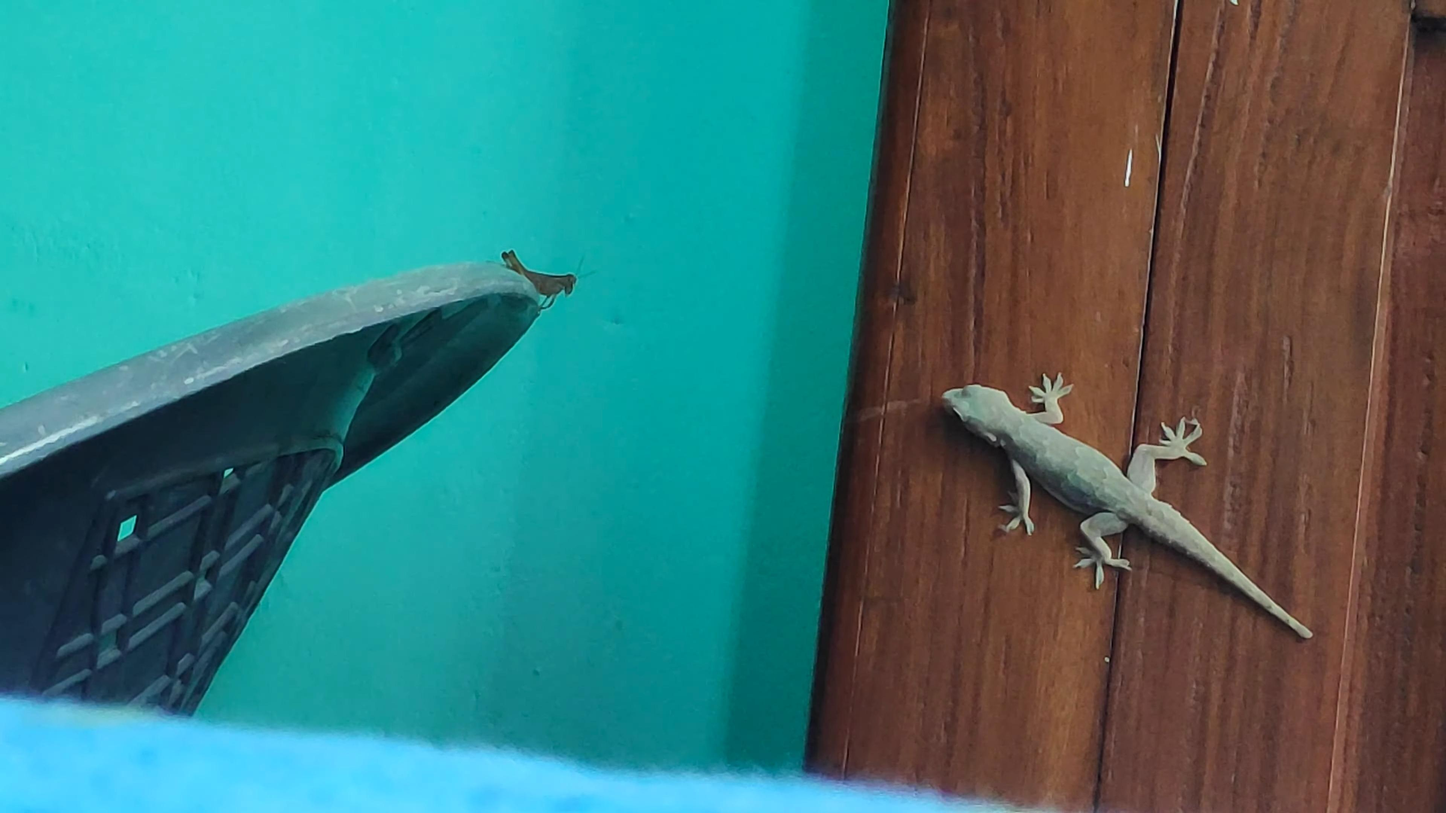lizard: (930, 371, 1313, 642)
